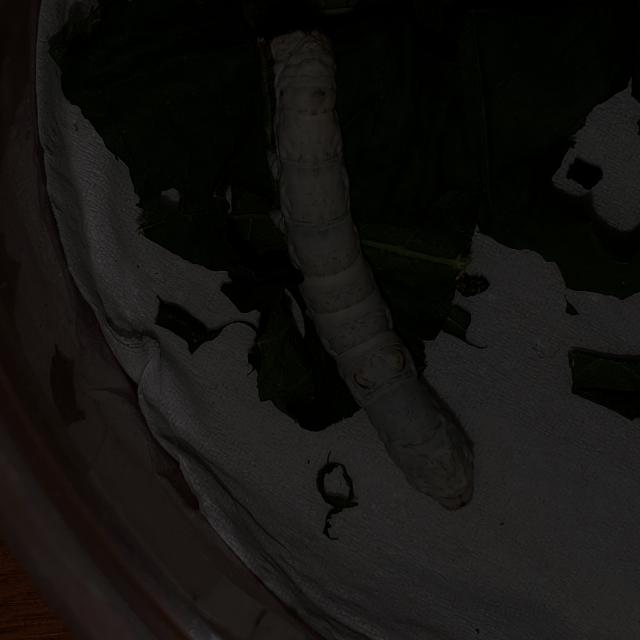Healthy: (218, 11, 552, 529)
